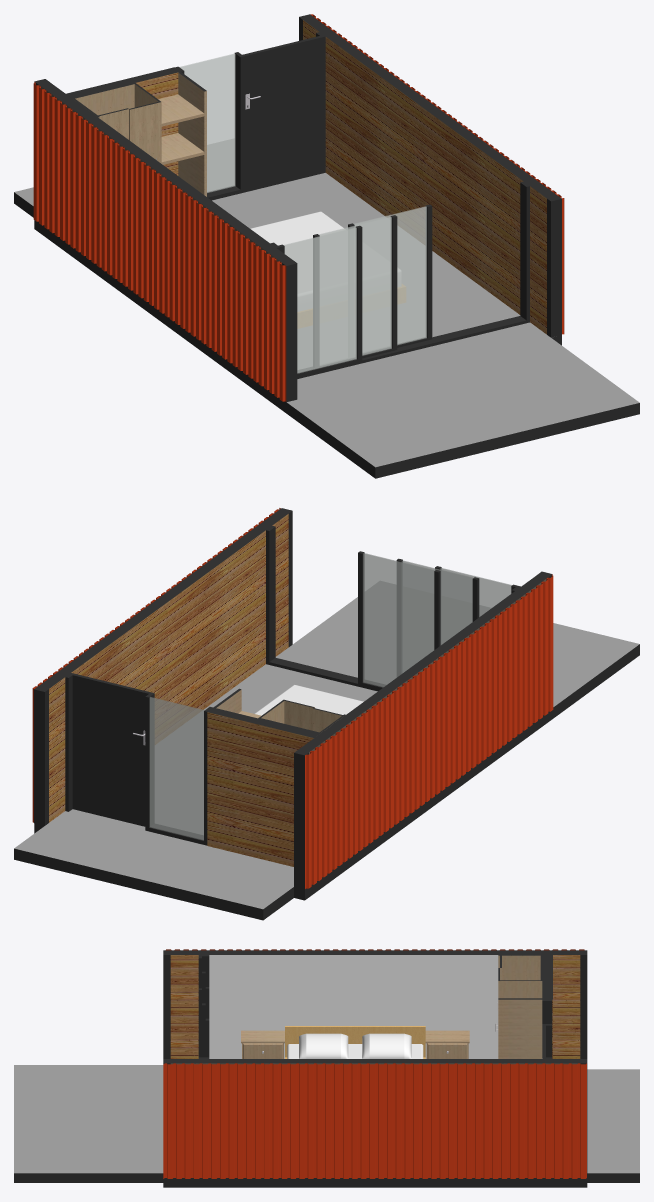
File: NEVI_XS_RA_planta.fbx
3 renders of one model, top to bottom at view 1: azimuth 30°, elevation 25°; view 2: azimuth 150°, elevation 25°; view 3: azimuth 270°, elevation 25°, orthographic. The views are drawn at different scales.
Parts seen in each view (by area): view 1: Modelo; view 2: Modelo; view 3: Modelo.
Boxes of the visible parts, x1,y1,x2,y2 form: Modelo: (14, 14, 639, 478); Modelo: (14, 508, 639, 920); Modelo: (14, 949, 639, 1187).
Bounding box in the file's own units: 3.09 × 1.56 × 7.12.
Materials: 14 (5 with a texture image).
